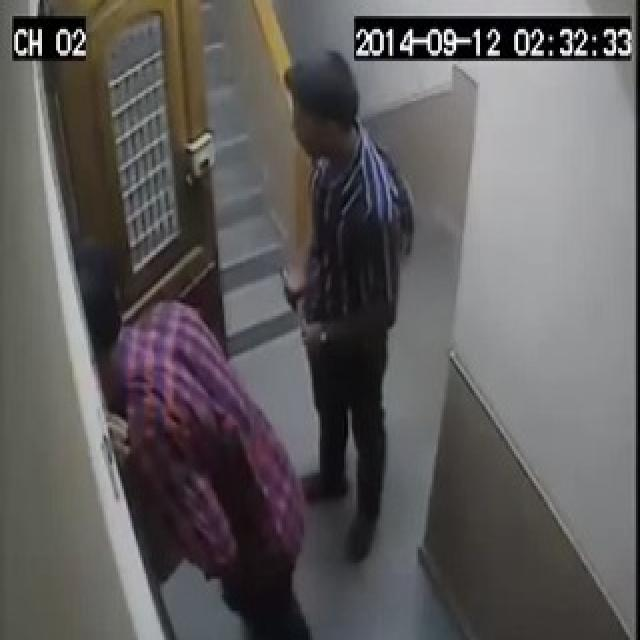burglary: (48, 113, 410, 475)
